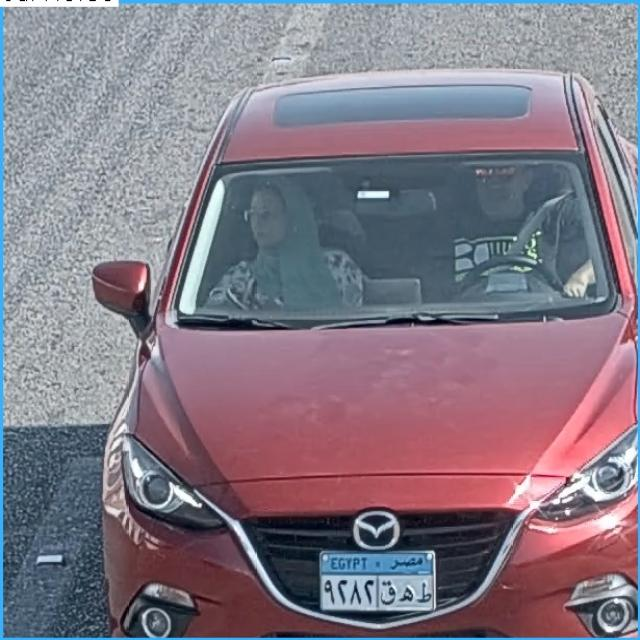windshield: (178, 150, 609, 327)
